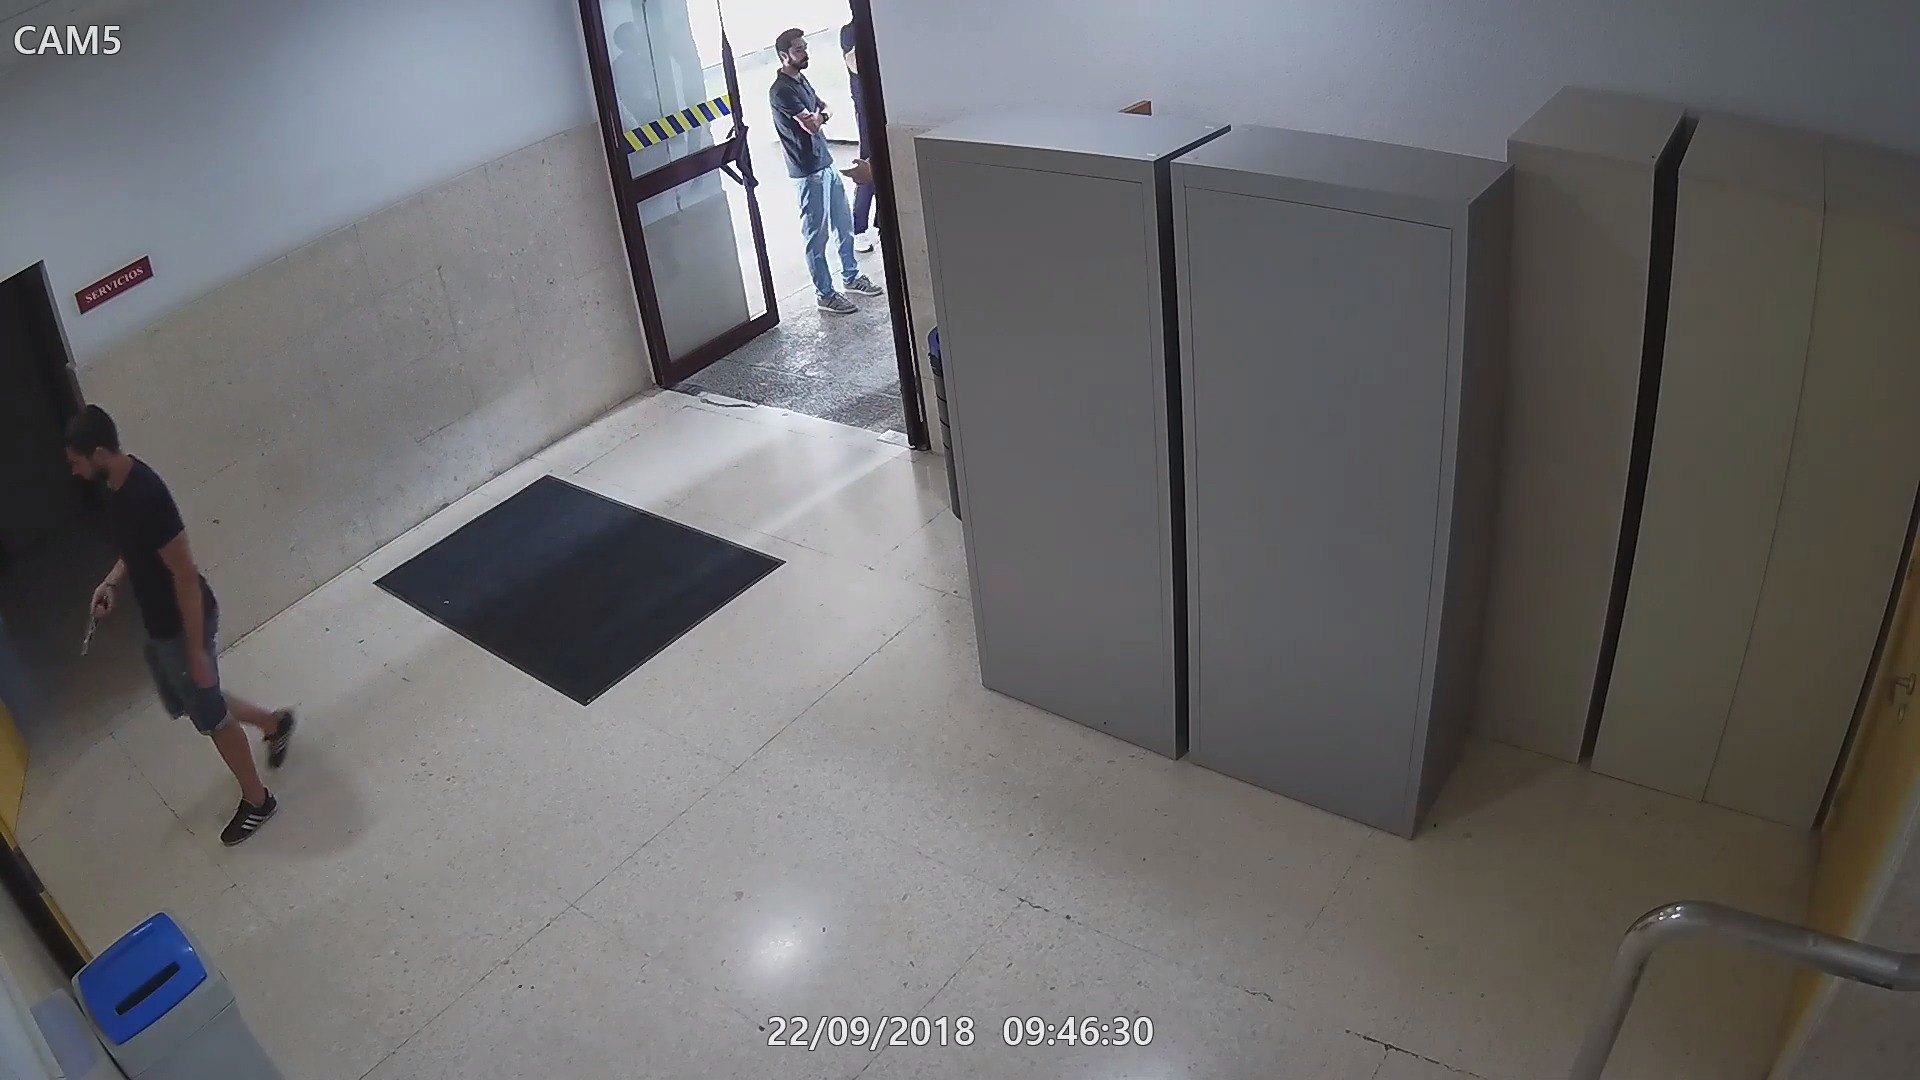Handgun: (79, 589, 119, 658)
